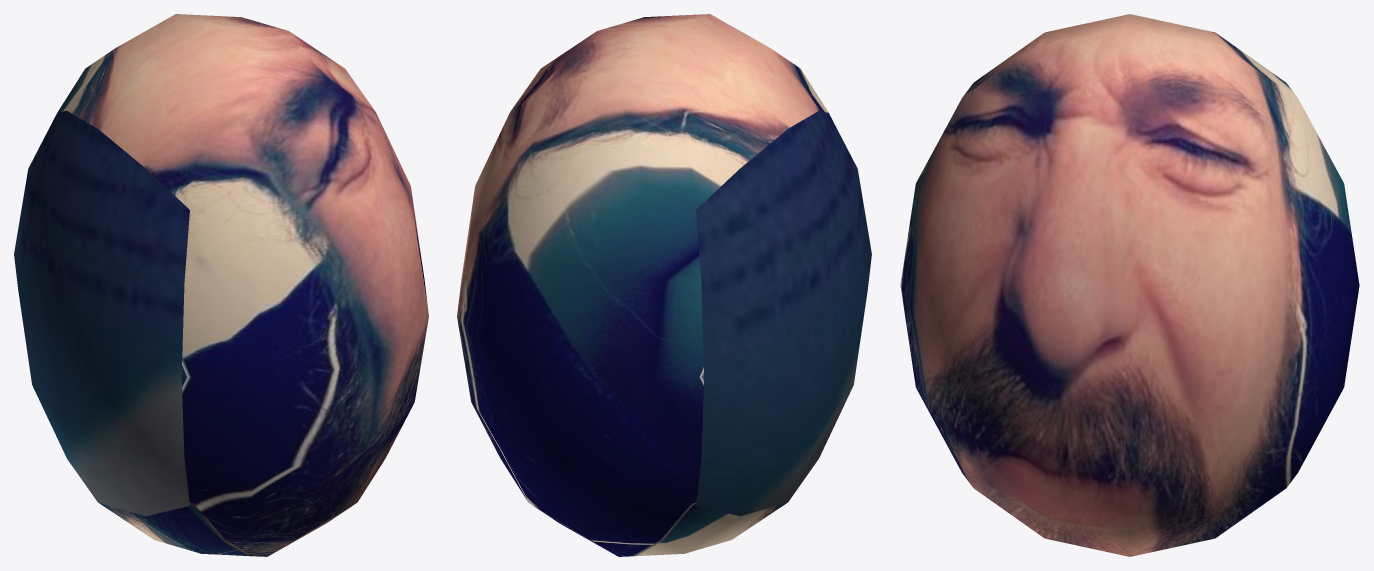
The model's file is nopogo_is_planet.FBX.
3 views of the same model, side by side, from view 1: azimuth 30°, elevation 25°; view 2: azimuth 150°, elevation 25°; view 3: azimuth 270°, elevation 25° (orthographic).
Visible parts, largest first — view 1: Box001; view 2: Box001; view 3: Box001.
Part boxes in pixels (box(x1,y1,x2,y2)): Box001: box(14, 14, 428, 556); Box001: box(457, 14, 871, 556); Box001: box(900, 14, 1359, 556).
Size of the model in its own units: 51.23 by 73.98 by 60.19.
